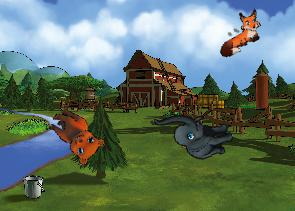bear: (39, 104, 109, 169)
elephant: (153, 96, 237, 171)
fox: (208, 5, 270, 60)
